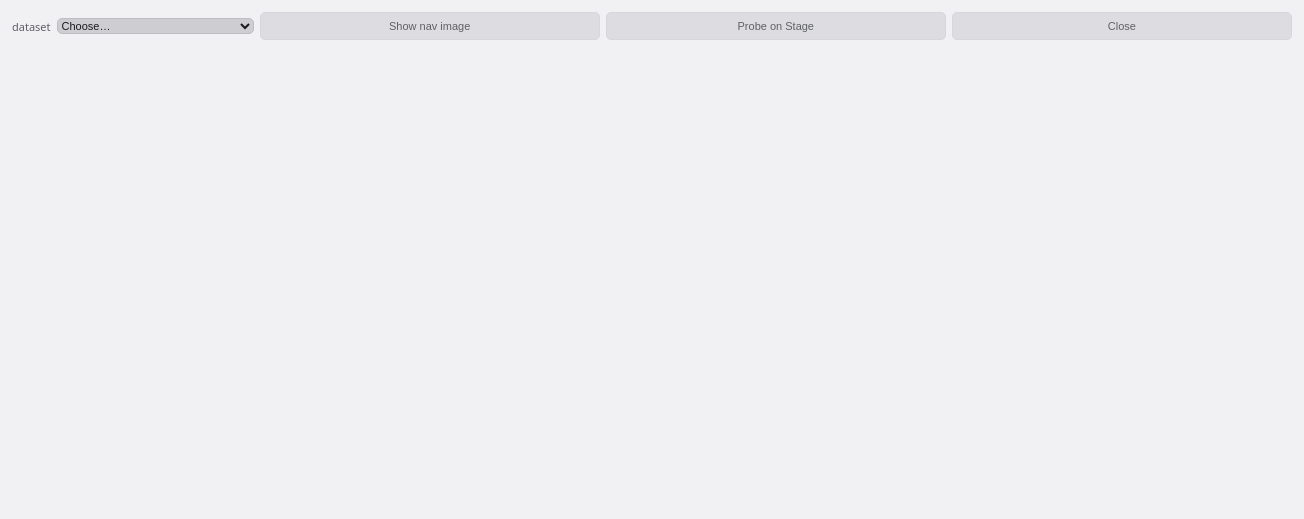
Test: FourDWorkshop › surfaces a failed close instead of silently leaving the dataset selected
Step 1. Select "synthetic.mib (4×5 scan, 64×64 det)" in the dropdown named "4D-STEM dataset" → [155, 26], box [56,18,254,34]
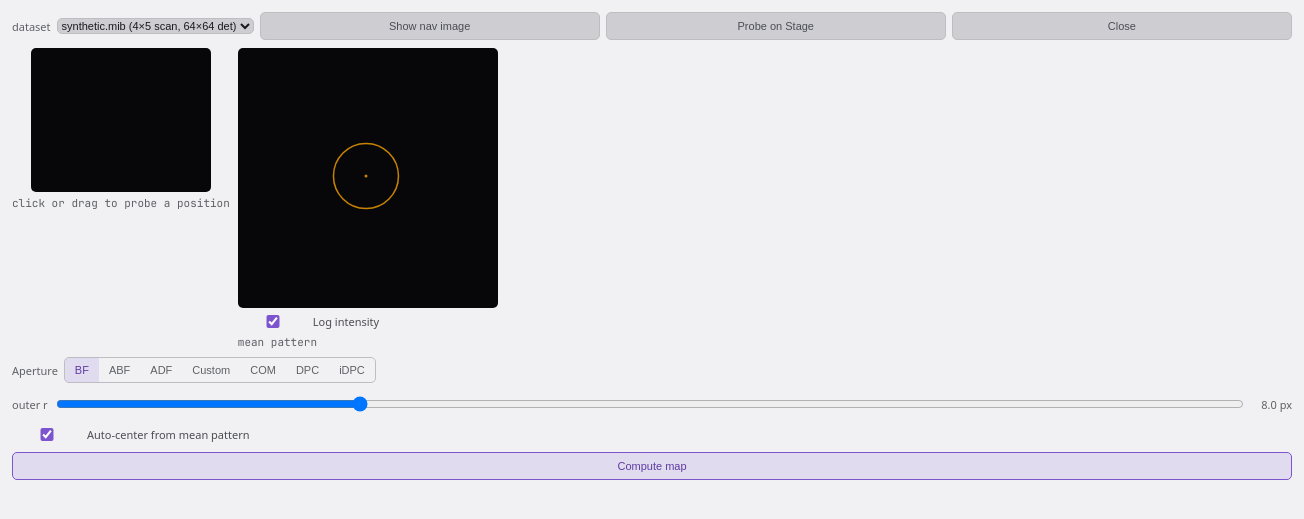
expect the text "mean pattern" is shown: met, box [238,335,317,349]
Step 2. Click the button "Close" → [1122, 26], box [952,12,1292,40]
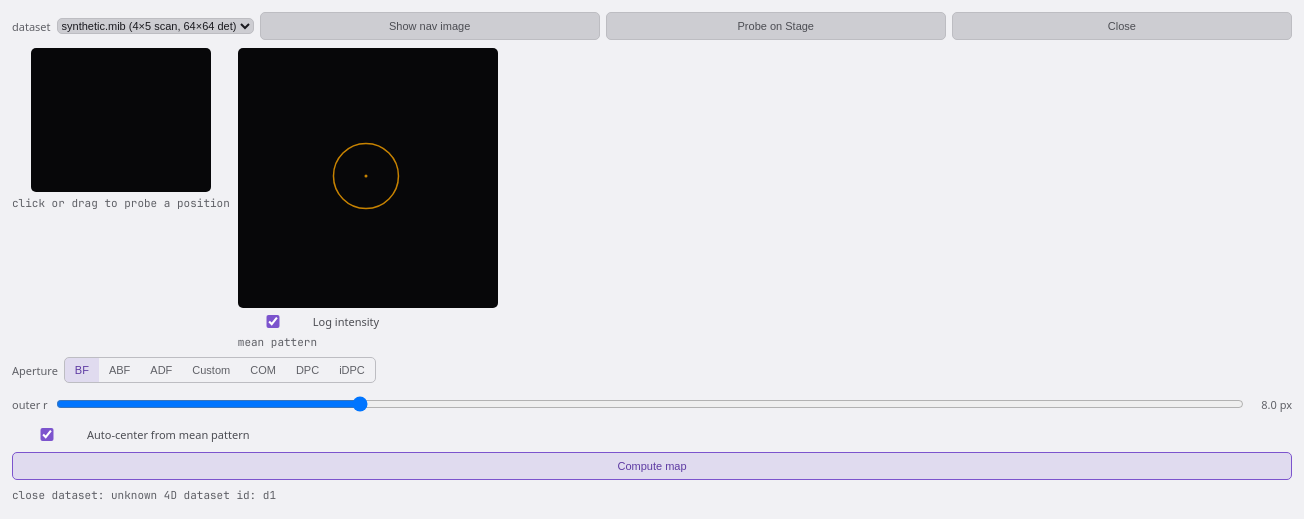
expect the text "mean pattern" is shown: met, box [238,335,317,349]
expect the text "close dataset: unknown 4D dataset id: d1" is shown: met, box [12,488,276,502]
